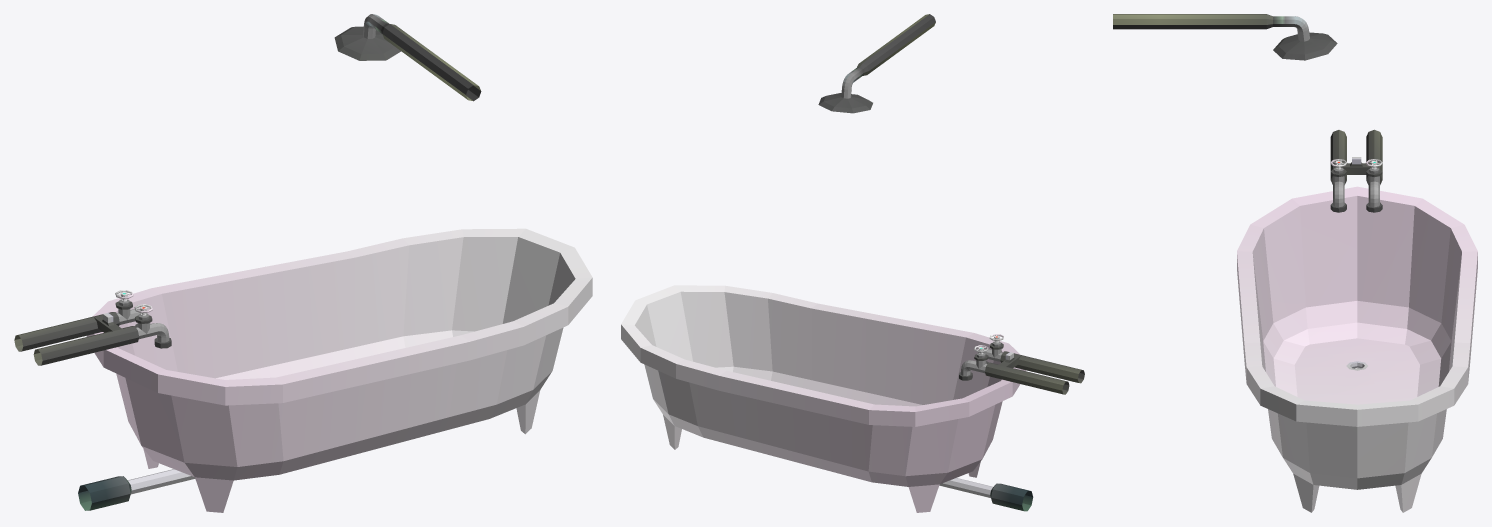
Rendered from Bath.fbx.
The picture shows the model from 3 angles, left to right: view 1: azimuth 30°, elevation 25°; view 2: azimuth 150°, elevation 25°; view 3: azimuth 270°, elevation 25°; orthographic projection. The views are drawn at different scales.
Parts seen in each view (by area): view 1: Bath; view 2: Bath; view 3: Bath.
Part boxes in pixels (bbox=[...]): Bath: bbox=[14, 14, 592, 512]; Bath: bbox=[621, 14, 1084, 512]; Bath: bbox=[1113, 14, 1477, 512].
Bounding box in the file's own units: 215 × 174 × 135.
